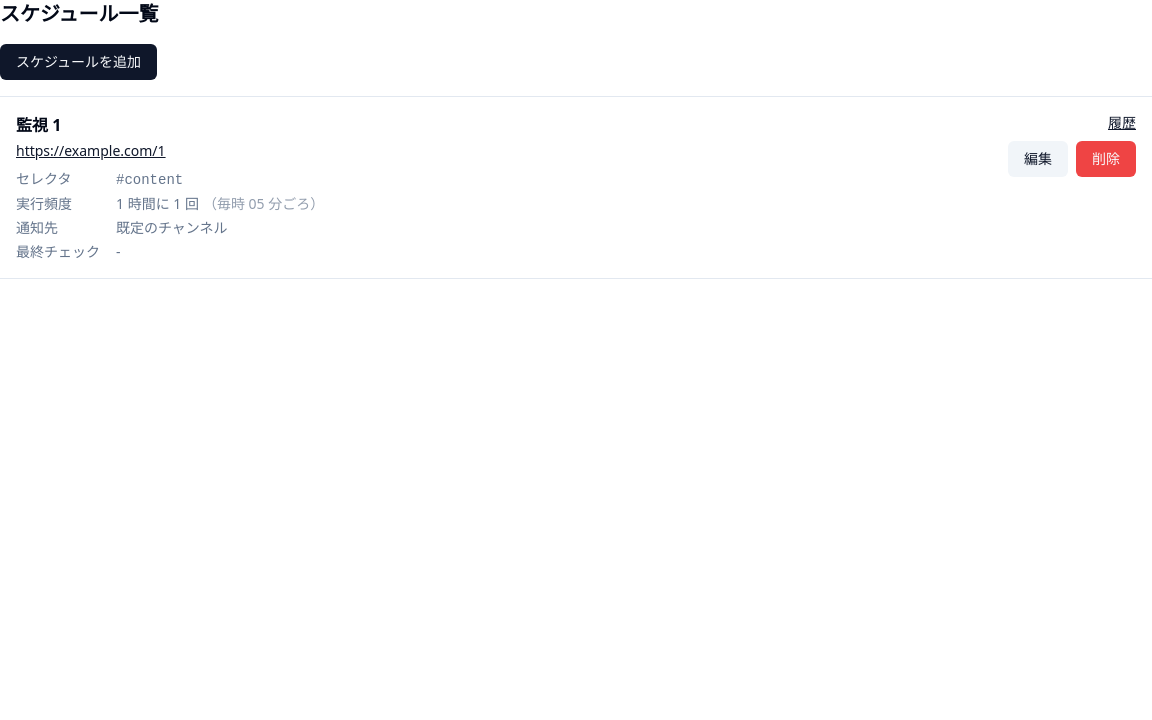
Test: ScheduleList — delete › asks for confirmation before deleting
Expected: the heading "監視 1" is shown, [16,114,61,136]
Click the button "削除".
click(1106, 159)  # box [1076,141,1136,177]
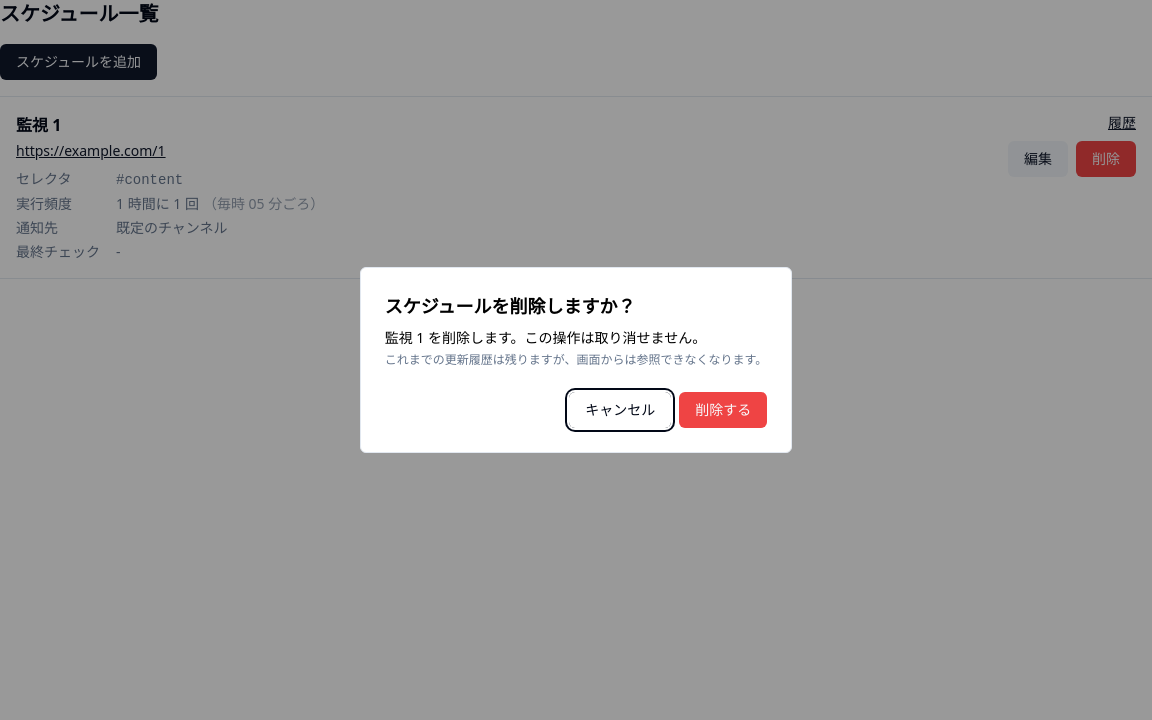
Result: the heading "スケジュールを削除しますか？" is shown at [385,294,636,318]
